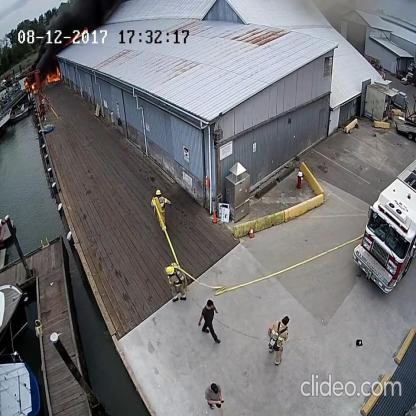fire: (41, 64, 64, 84), (22, 79, 40, 94)
